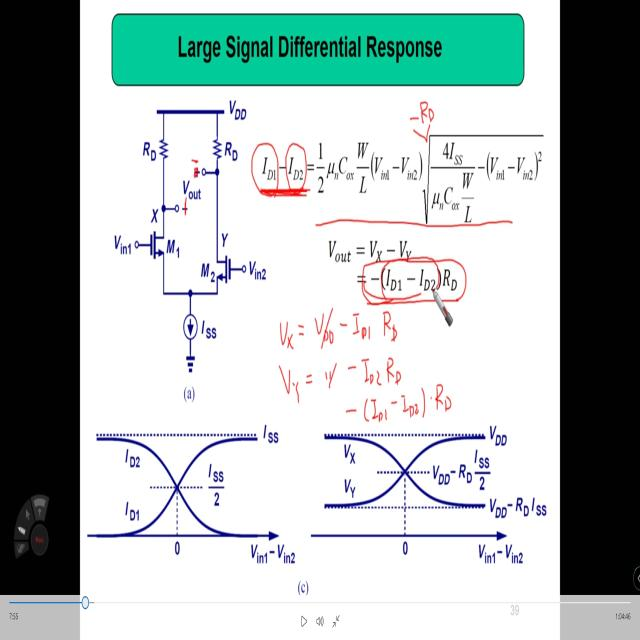panseo: (271, 299, 460, 439), (398, 88, 441, 136)
